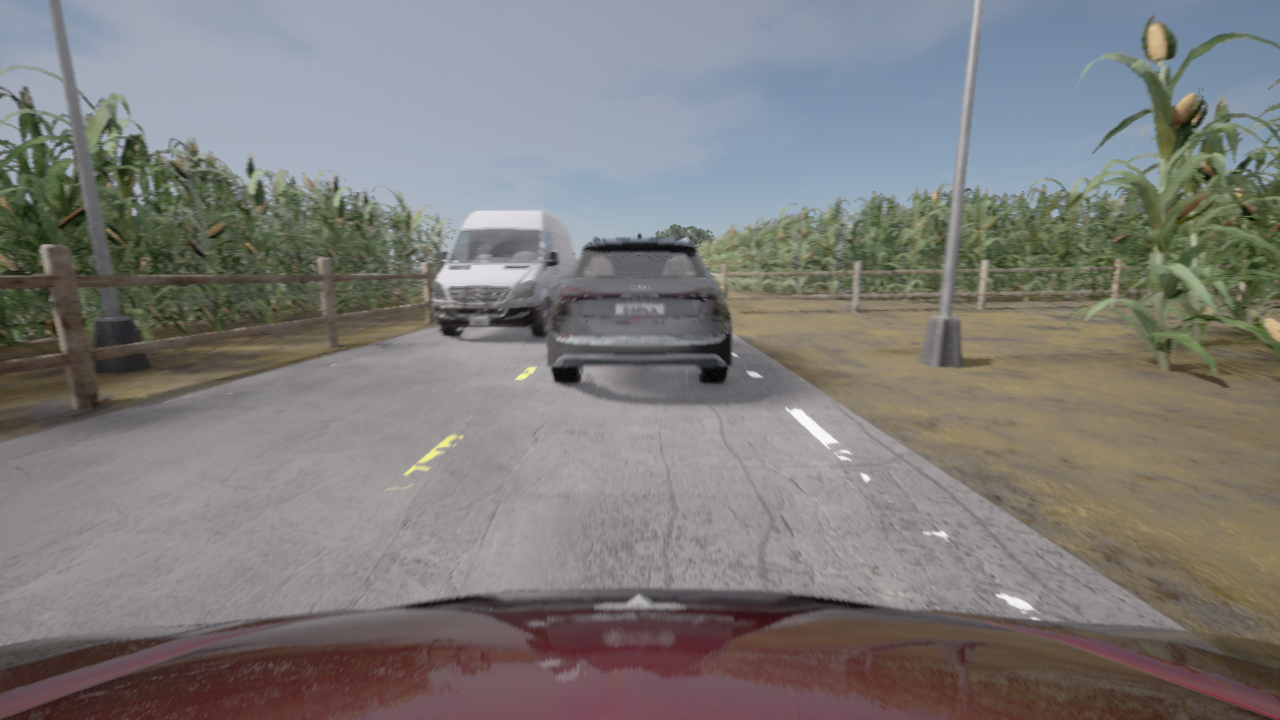cyclist: (0, 588, 1279, 719), (548, 233, 731, 383), (432, 210, 575, 336)
